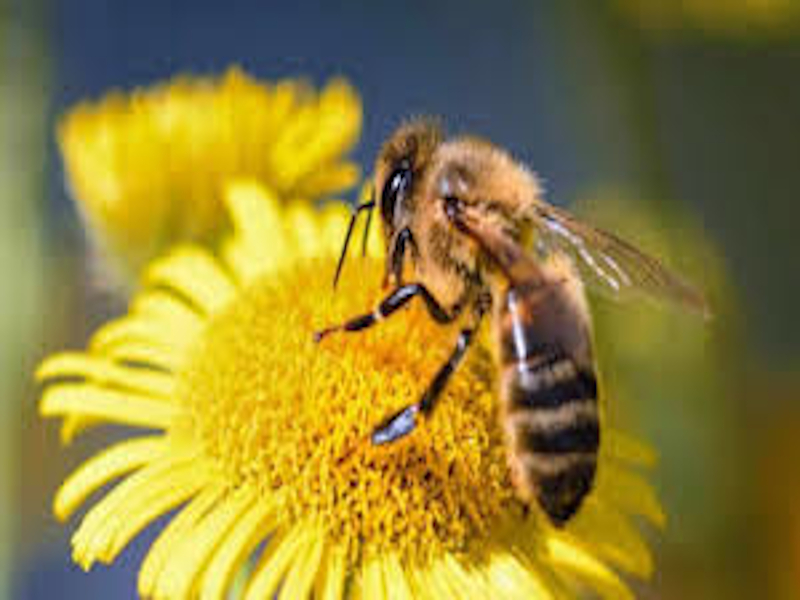abeja: (329, 82, 693, 545)
